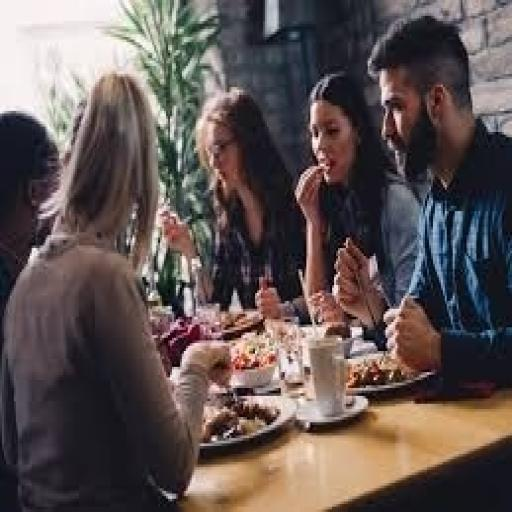eating: (0, 68, 233, 509)
